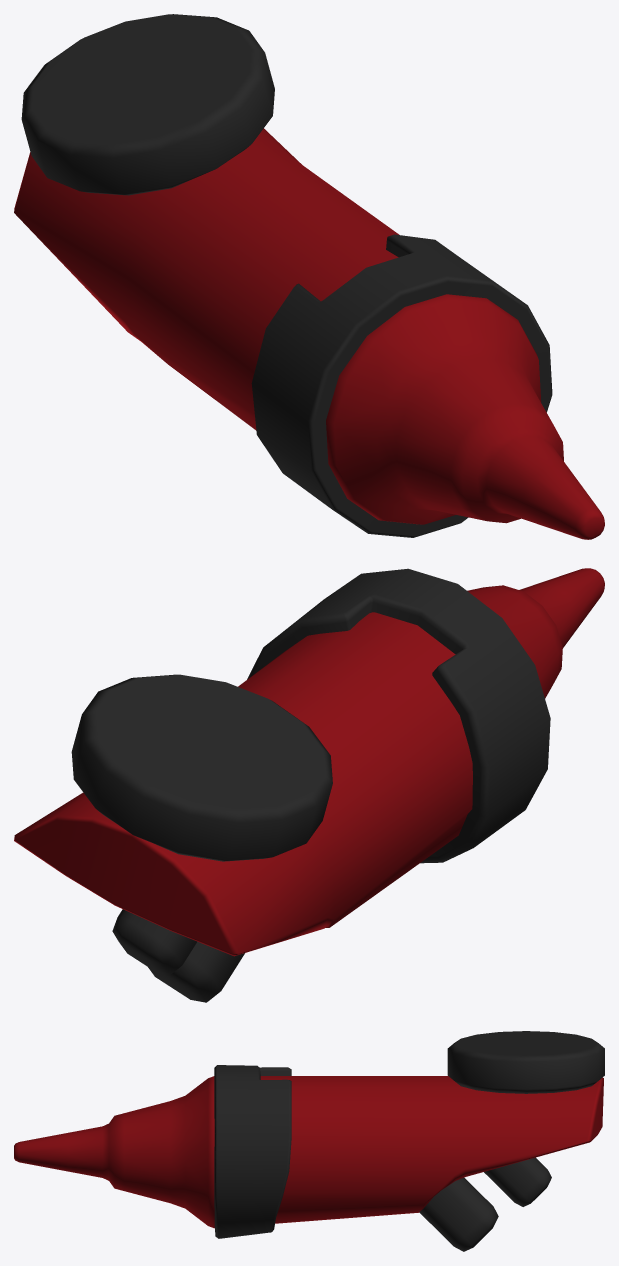
File: Ship_enemy_09_Weapon_R.fbx
3 renders of one model, top to bottom at view 1: azimuth 30°, elevation 25°; view 2: azimuth 150°, elevation 25°; view 3: azimuth 270°, elevation 25°, orthographic. The views are drawn at different scales.
Visible parts, largest first — view 1: Ship_enemy_09_Weapon_R; view 2: Ship_enemy_09_Weapon_R; view 3: Ship_enemy_09_Weapon_R.
Part boxes in pixels (x1,y1,x2,y2): Ship_enemy_09_Weapon_R: (14,14,604,539); Ship_enemy_09_Weapon_R: (14,568,604,1002); Ship_enemy_09_Weapon_R: (14,1031,604,1251).
Size of the model in its own units: 85.38 by 100 by 265.
